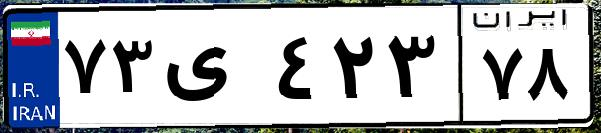2: (330, 28, 385, 110)
3: (385, 28, 445, 110), (110, 28, 158, 98)
4: (270, 28, 330, 110)
7: (57, 26, 110, 100), (475, 38, 525, 113)
8: (525, 38, 570, 115)
ی: (158, 20, 270, 120)
